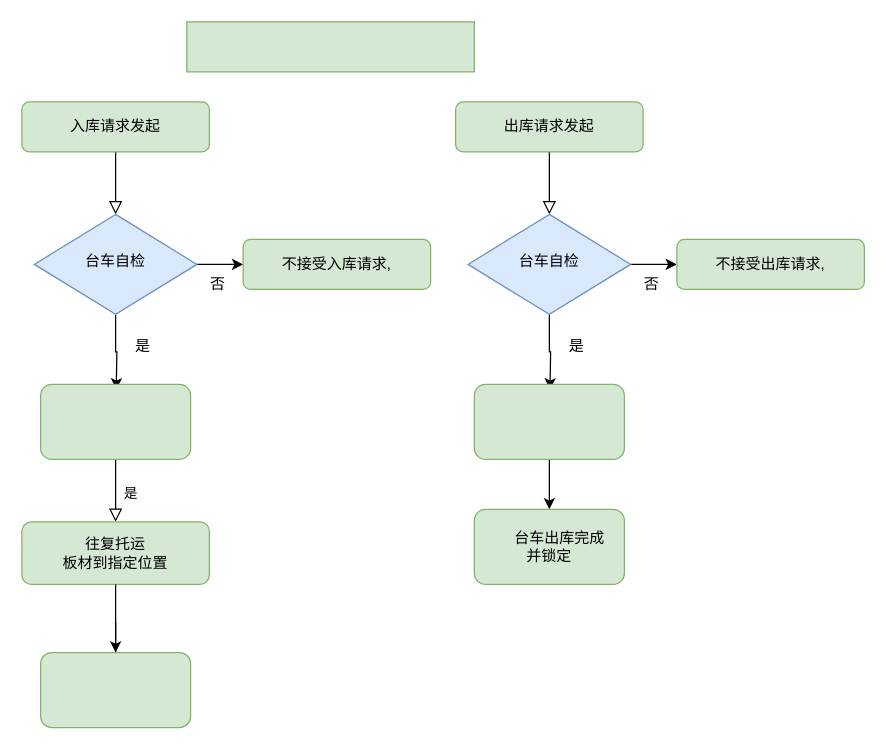
This 886x750 diagram has some shape labels left out. The centre of each missing label's shape, as x and y in pixels:
"台车无板材时候, 锁定后停止" goes at point (115, 689).
"台车流程绘制" goes at point (330, 46).
"台车解锁并入库" goes at point (115, 421).
"台车解锁并出库" goes at point (548, 421).
